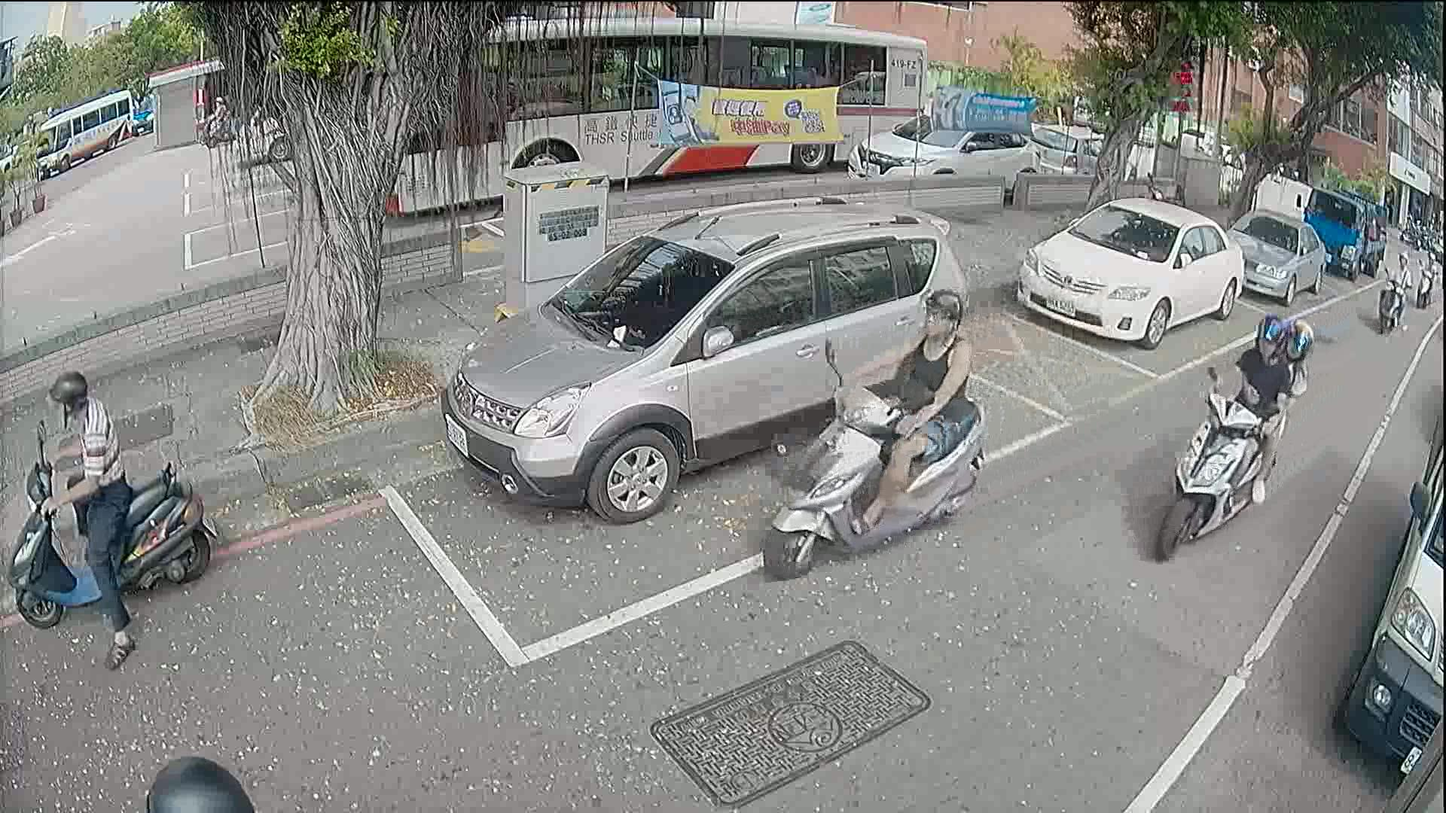person: (822, 283, 978, 524), (34, 368, 143, 659), (1210, 309, 1291, 513), (1234, 316, 1314, 493), (142, 749, 259, 812), (1390, 250, 1409, 330), (207, 93, 227, 137), (1421, 248, 1435, 282)
